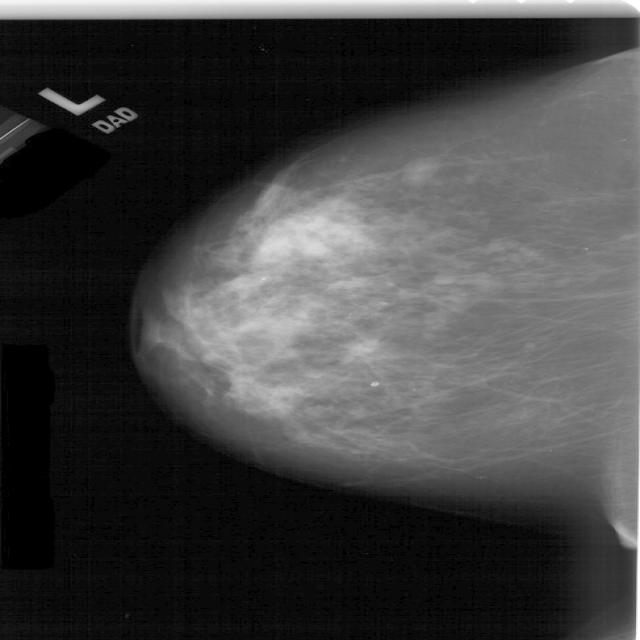tumour: (339, 336, 380, 361)
